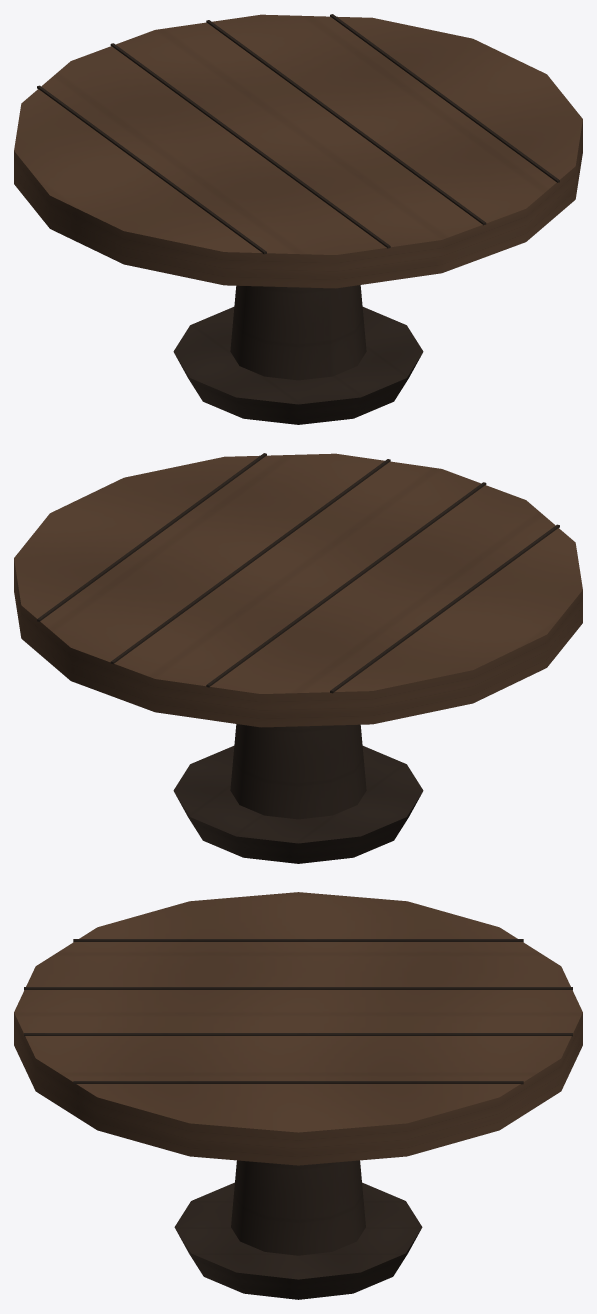
The model's file is sk-table-round.glb.
The picture shows the model from 3 angles, top to bottom: view 1: azimuth 30°, elevation 25°; view 2: azimuth 150°, elevation 25°; view 3: azimuth 270°, elevation 25°; orthographic projection.
Visible parts, largest first — view 1: table-round-top, interior:table_round-static-table-round-pedestal; view 2: table-round-top, interior:table_round-static-table-round-pedestal; view 3: table-round-top, interior:table_round-static-table-round-pedestal.
Boxes of the visible parts, box(x1,y1,x2,y2) form: table-round-top: box(14, 14, 582, 288); interior:table_round-static-table-round-pedestal: box(37, 14, 559, 424); table-round-top: box(14, 453, 582, 727); interior:table_round-static-table-round-pedestal: box(37, 453, 559, 863); table-round-top: box(14, 892, 582, 1165); interior:table_round-static-table-round-pedestal: box(24, 939, 572, 1299).
Size of the model in its own units: 1.56 by 0.735 by 1.56.
3 materials, 3 textured.
